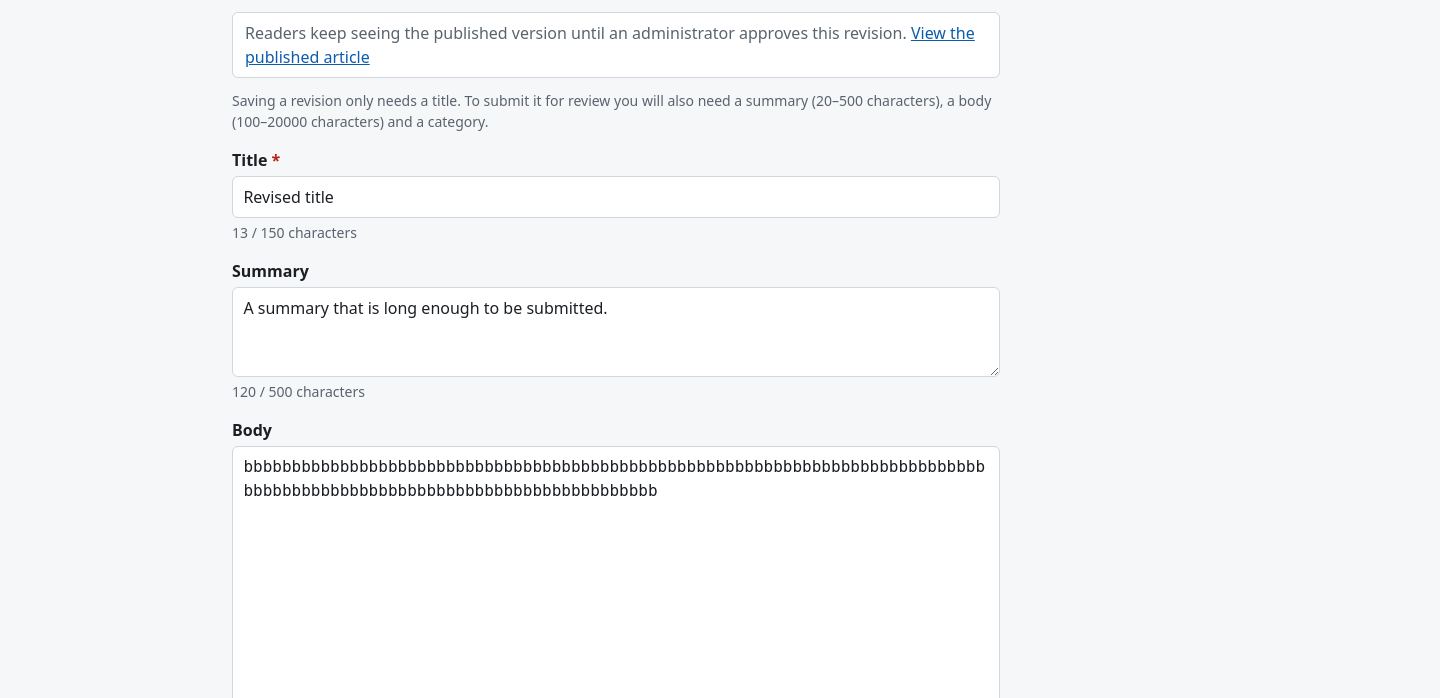
a draft revision › asks for a title before it saves anything
The image size is (1440, 698).
Step 1. Clear the field with test id "revision-title" → [616, 197], box [232,176,1000,218]
(page scrolled)
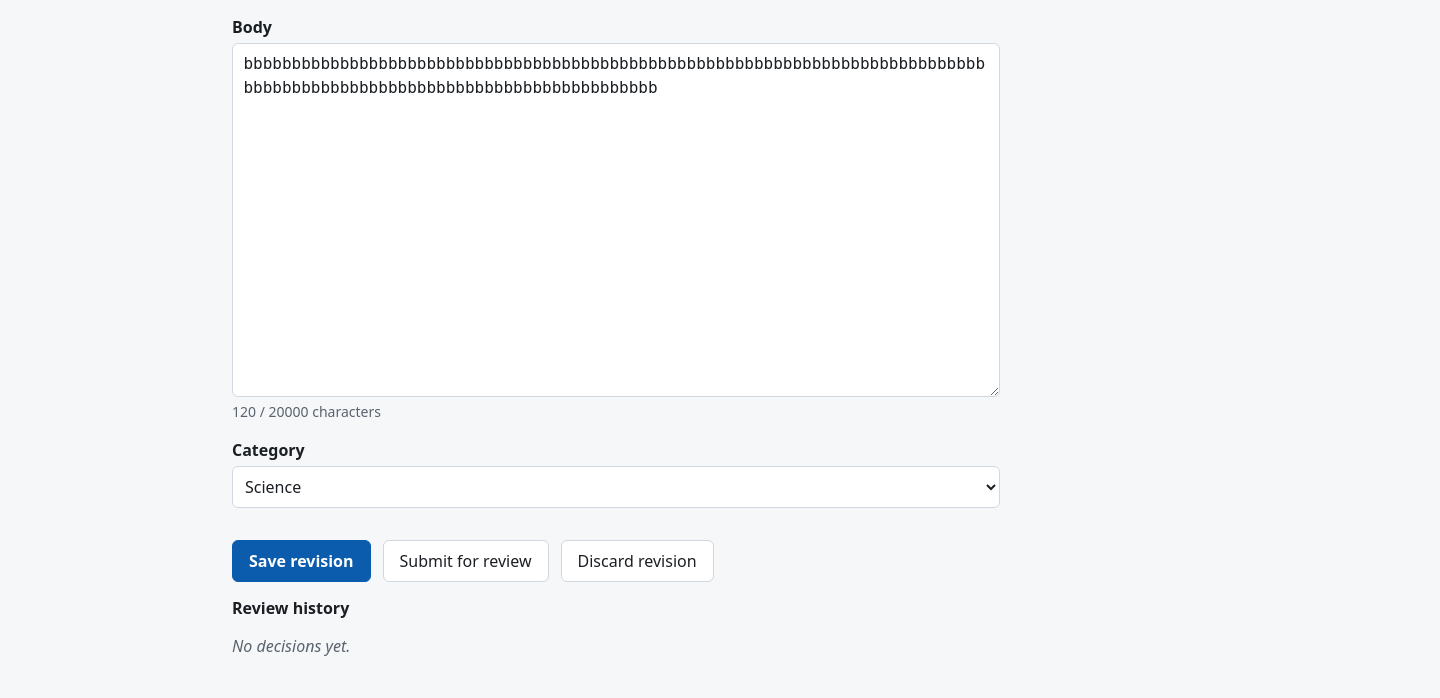
Step 2. Click the button with test id "revision-save" → [301, 561], box [232,540,370,582]
(page scrolled)
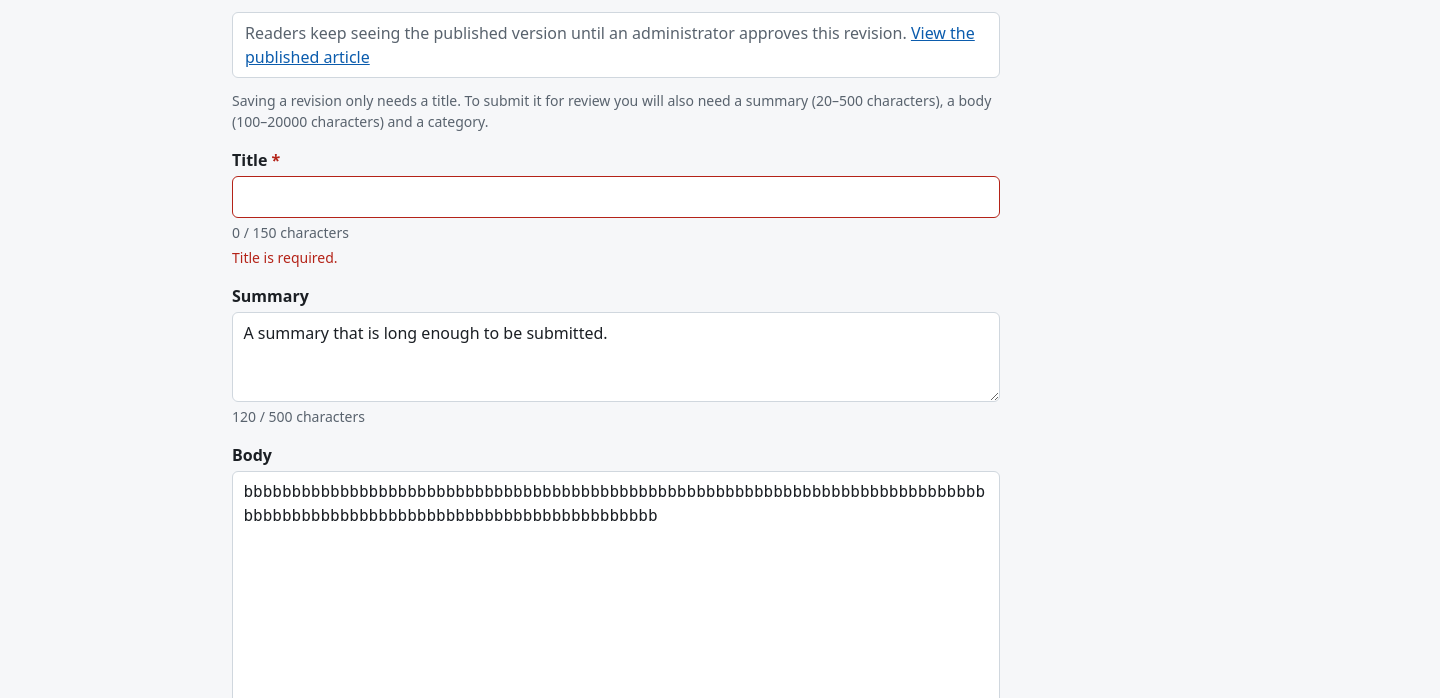
Now the text "Title is required." is shown, box [232,248,338,267]
